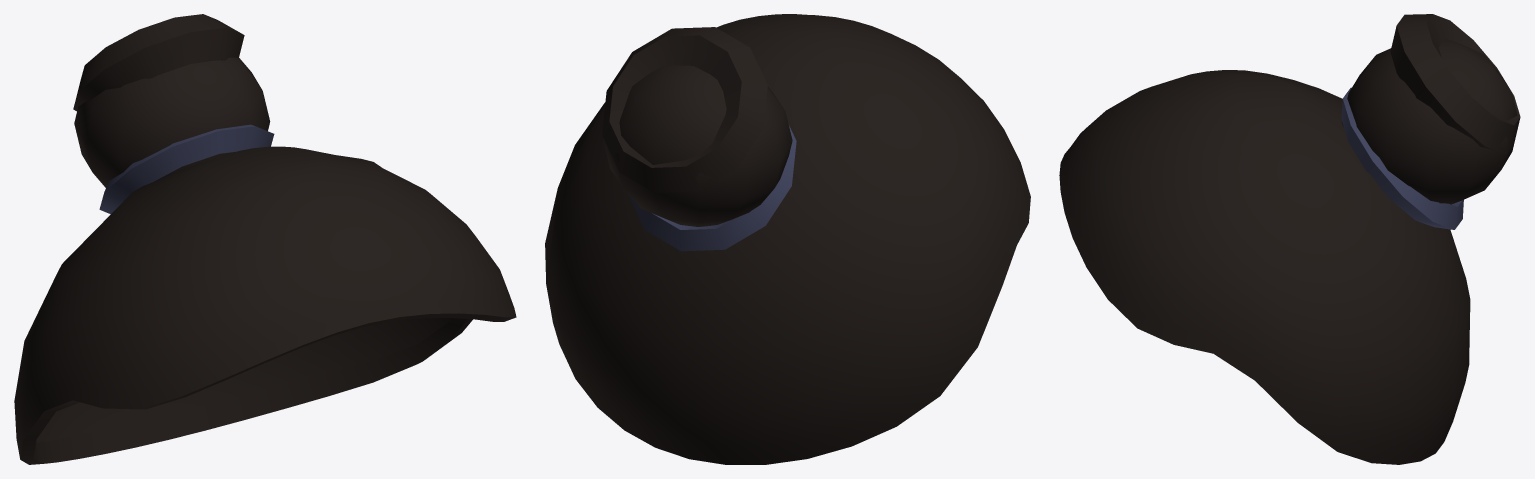
Rendered from Char_Hair_Bun.fbx.
The picture shows the model from 3 angles, left to right: view 1: azimuth 30°, elevation 25°; view 2: azimuth 150°, elevation 25°; view 3: azimuth 270°, elevation 25°; orthographic projection. The views are drawn at different scales.
Parts seen in each view (by area): view 1: Hair, Tie; view 2: Hair, Tie; view 3: Hair, Tie.
Boxes of the visible parts, <box> form: Hair: <box>14,14,516,464</box>; Tie: <box>99,124,274,214</box>; Hair: <box>545,14,1030,464</box>; Tie: <box>628,125,796,251</box>; Hair: <box>1059,14,1520,464</box>; Tie: <box>1341,87,1463,229</box>.
Bounding box in the file's own units: 131 × 122 × 126.
